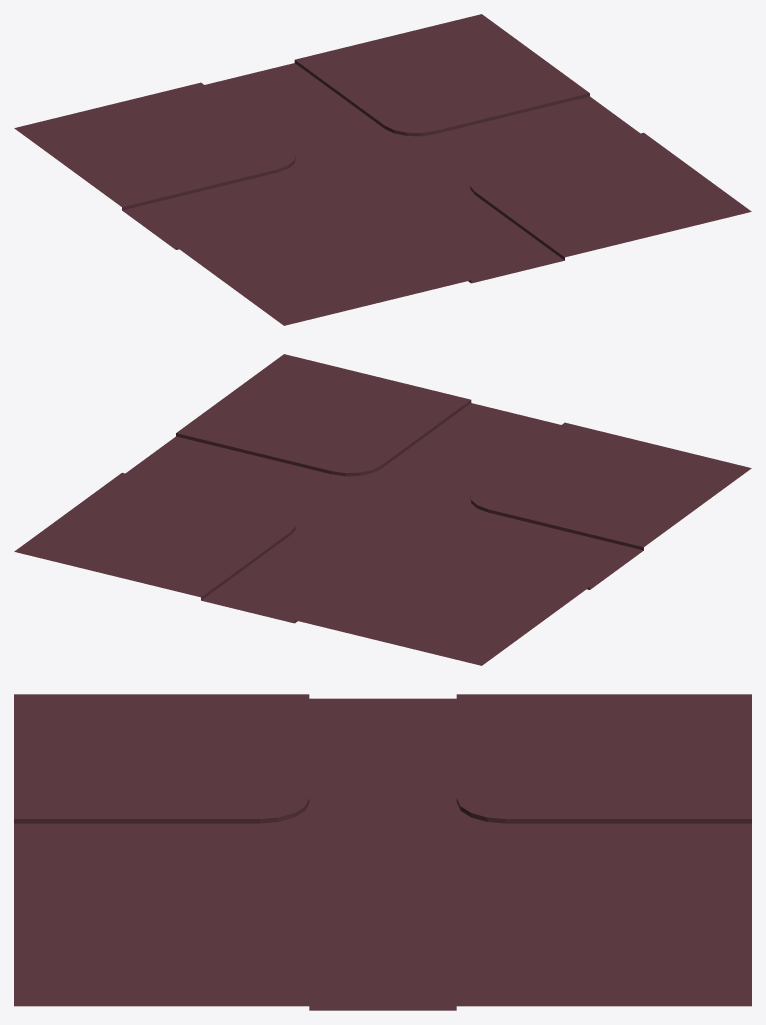
Rendered from tile-road-intersection-nb.fbx.
3 views of the same model, one above another, from view 1: azimuth 30°, elevation 25°; view 2: azimuth 150°, elevation 25°; view 3: azimuth 270°, elevation 25° (orthographic). The views are drawn at different scales.
Parts seen in each view (by area): view 1: tile-road-intersection-nb; view 2: tile-road-intersection-nb; view 3: tile-road-intersection-nb.
Part boxes in pixels (x1,y1,x2,y2): tile-road-intersection-nb: [14, 14, 751, 325]; tile-road-intersection-nb: [14, 354, 751, 665]; tile-road-intersection-nb: [14, 694, 751, 1010].
Size of the model in its own units: 30 by 0.2 by 30.
